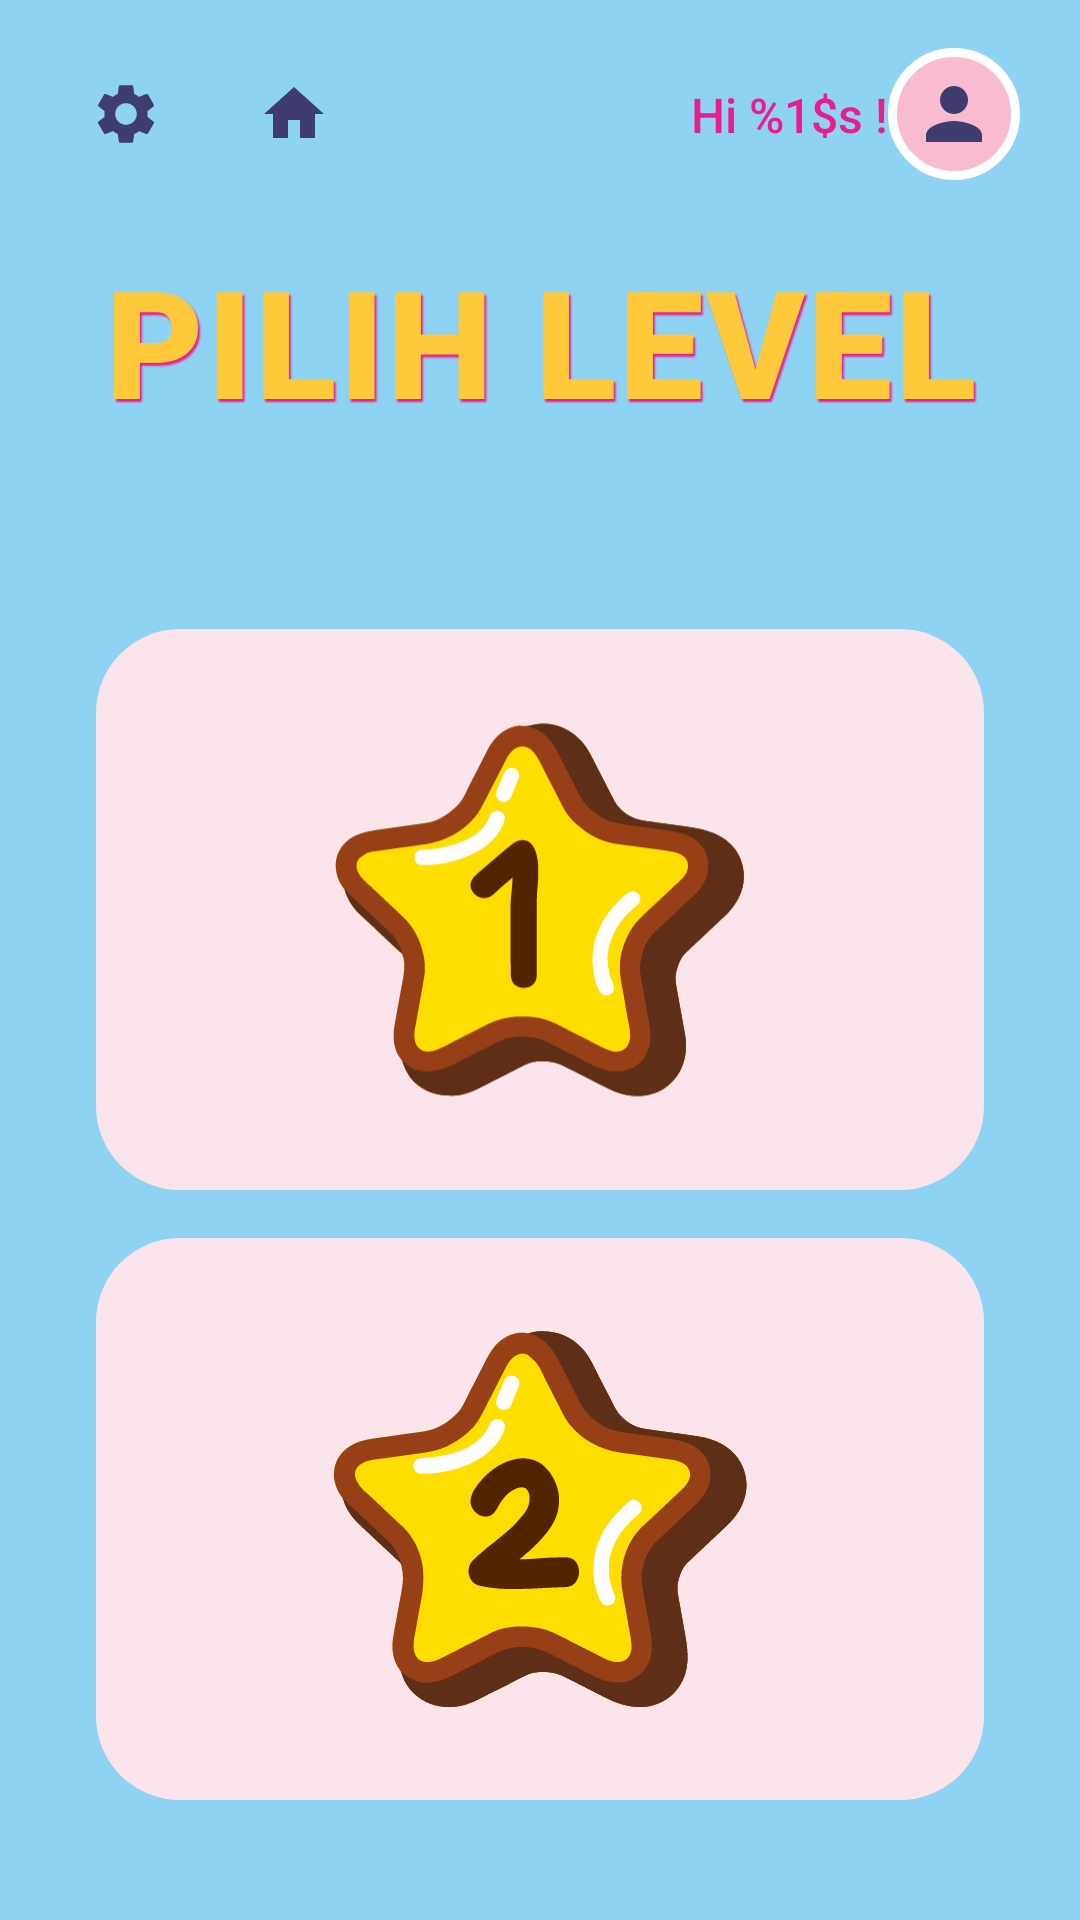

Icon bounding boxes for this 1080w x 1920h phone screenshot, format (x1, y1, x2, y2):
Pengaturan: (98, 85, 154, 143)
person: (888, 48, 1020, 180)
